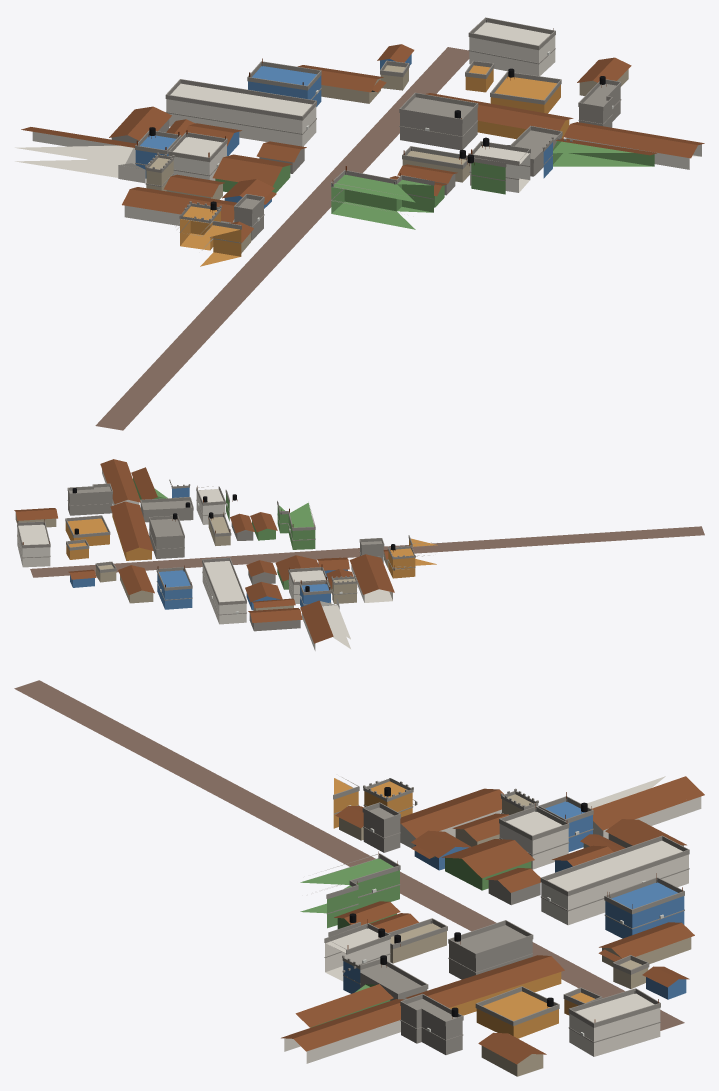
File: zone_t7_3.glb
3 views of the same model, one above another, from view 1: azimuth 30°, elevation 25°; view 2: azimuth 150°, elevation 25°; view 3: azimuth 270°, elevation 25° (orthographic). The views are drawn at different scales.
Parts seen in each view (by area): view 1: bld_peinture_blanc_t7_3-col, toit_tole_t7_3, route_residential_paves_t7_3, parapet_t7_3, bld_peinture_vert_t7_3-col, bld_beton_t7_3-col, bld_peinture_ocre_t7_3-col, bld_peinture_ecaillee_t7_3-col, bld_peinture_bleu_t7_3-col, bandeau_t7_3; view 2: toit_tole_t7_3, bld_peinture_blanc_t7_3-col, route_residential_paves_t7_3, parapet_t7_3, bld_beton_t7_3-col, bld_peinture_ocre_t7_3-col, bld_peinture_bleu_t7_3-col, bld_peinture_ecaillee_t7_3-col, bld_peinture_vert_t7_3-col, bandeau_t7_3; view 3: toit_tole_t7_3, bld_peinture_blanc_t7_3-col, parapet_t7_3, route_residential_paves_t7_3, bld_beton_t7_3-col, bld_peinture_bleu_t7_3-col, bld_peinture_ocre_t7_3-col, bld_peinture_ecaillee_t7_3-col, bld_peinture_vert_t7_3-col, bandeau_t7_3.
Part boxes in pixels (box(x1,y1,x2,y2)): bld_peinture_blanc_t7_3-col: box(15, 22, 701, 225); toit_tole_t7_3: box(21, 44, 704, 242); route_residential_paves_t7_3: box(95, 47, 469, 430); parapet_t7_3: box(135, 17, 621, 236); bld_peinture_vert_t7_3-col: box(215, 141, 654, 229); bld_beton_t7_3-col: box(111, 84, 620, 240); bld_peinture_ocre_t7_3-col: box(180, 65, 569, 266); bld_peinture_ecaillee_t7_3-col: box(146, 65, 628, 253); bld_peinture_bleu_t7_3-col: box(135, 54, 552, 208); bandeau_t7_3: box(135, 48, 621, 250); toit_tole_t7_3: box(14, 459, 394, 643); bld_peinture_blanc_t7_3-col: box(17, 469, 392, 650); route_residential_paves_t7_3: box(30, 526, 704, 577); parapet_t7_3: box(17, 479, 431, 605); bld_beton_t7_3-col: box(68, 486, 383, 631); bld_peinture_ocre_t7_3-col: box(65, 513, 437, 578); bld_peinture_bleu_t7_3-col: box(70, 487, 347, 610); bld_peinture_ecaillee_t7_3-col: box(15, 512, 388, 610); bld_peinture_vert_t7_3-col: box(133, 478, 315, 589); bandeau_t7_3: box(17, 497, 429, 615); toit_tole_t7_3: box(281, 776, 704, 1064); bld_peinture_blanc_t7_3-col: box(284, 776, 701, 1063); parapet_t7_3: box(316, 777, 689, 1027); route_residential_paves_t7_3: box(14, 680, 684, 1030); bld_beton_t7_3-col: box(360, 807, 683, 1054); bld_peinture_bleu_t7_3-col: box(343, 801, 686, 999); bld_peinture_ocre_t7_3-col: box(333, 778, 594, 1038); bld_peinture_ecaillee_t7_3-col: box(339, 794, 691, 1076); bld_peinture_vert_t7_3-col: box(300, 857, 531, 1027); bandeau_t7_3: box(321, 804, 689, 1042).
Size of the model in its own units: 175 by 8 by 128.
